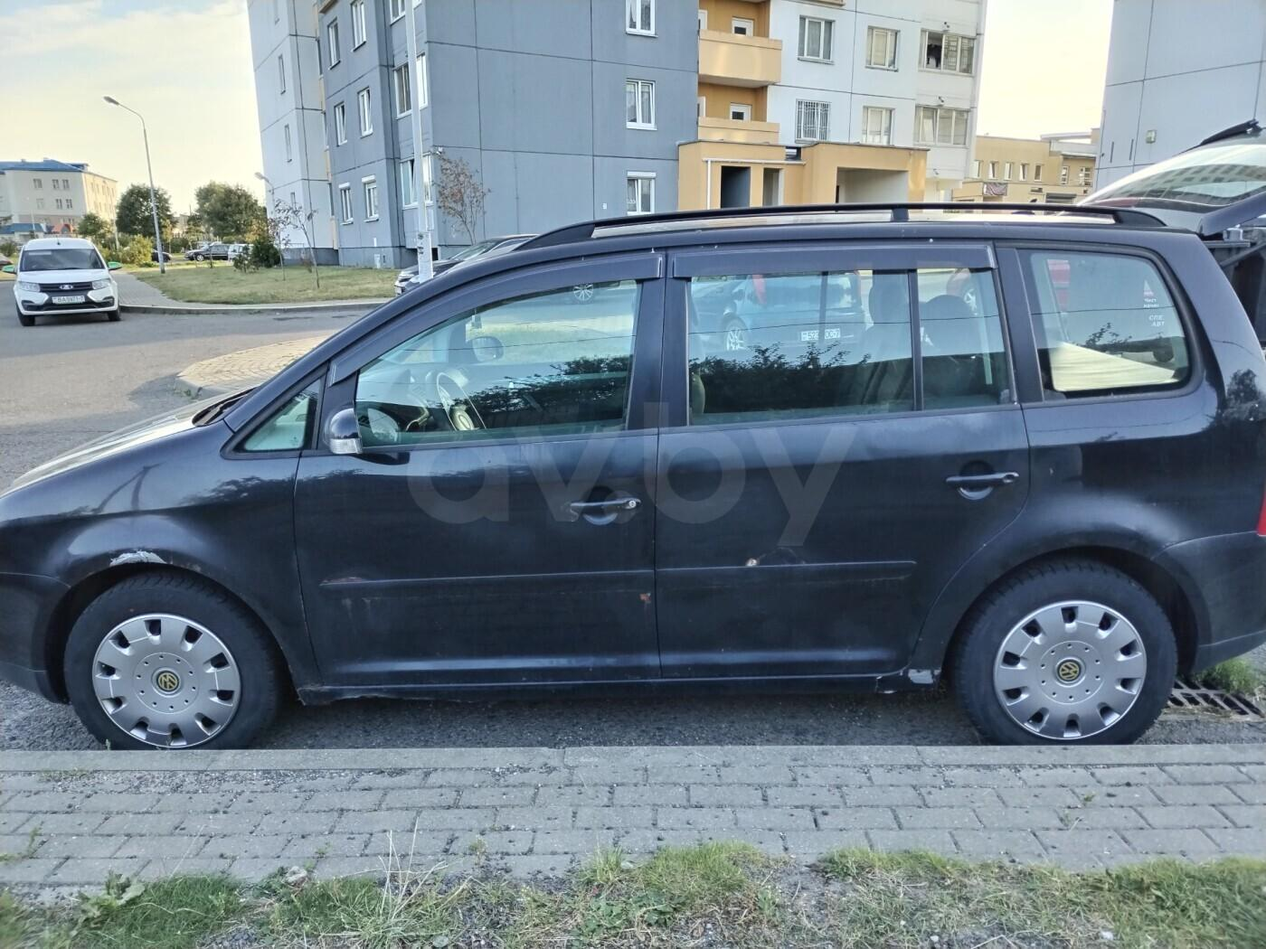Touran_2003-2006: (0, 204, 1266, 733)
